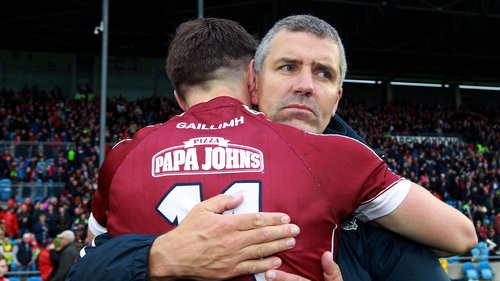player: (97, 21, 386, 279)
